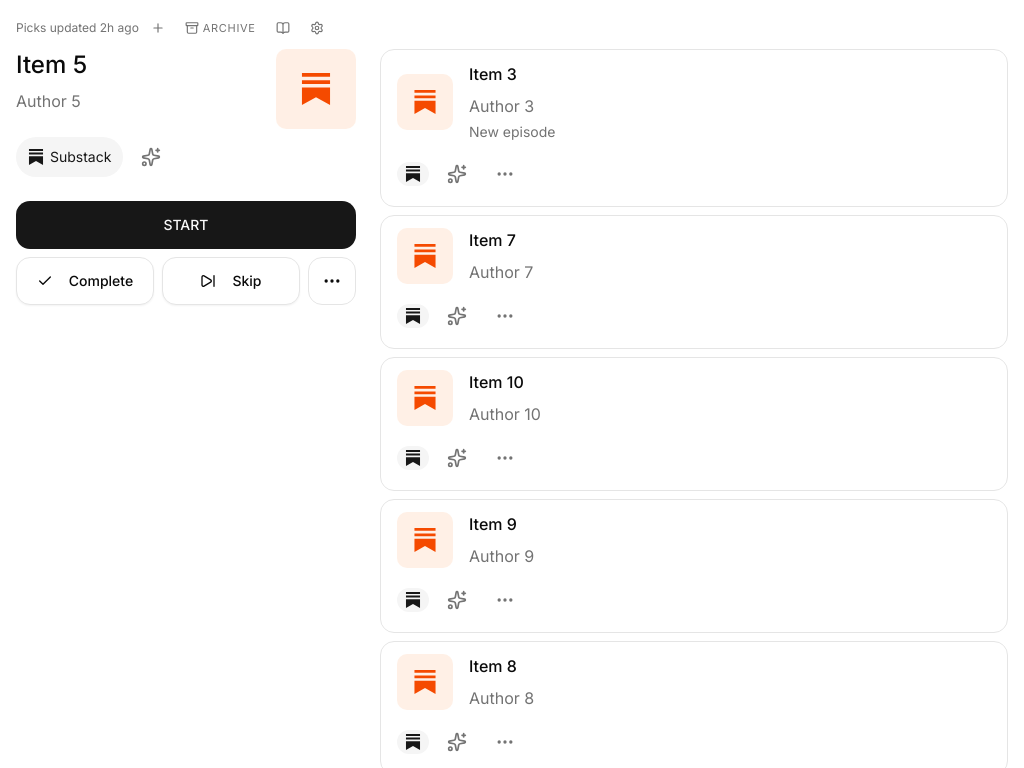
it: HomeClient (#377) › promotes the next entry as soon as the hero is completed, with no refetch
Step 1. Click the button "Complete" → (85, 280), box [16,256,154,304]
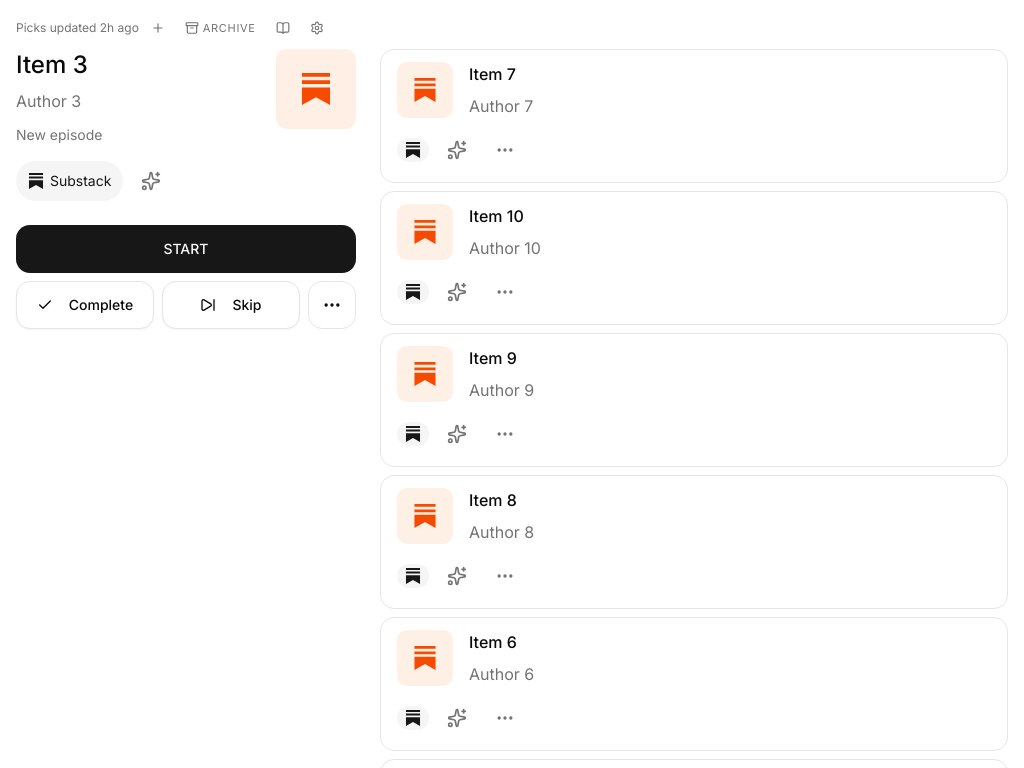
expect the heading "Item 3" is shown: met, box [16,48,88,80]
